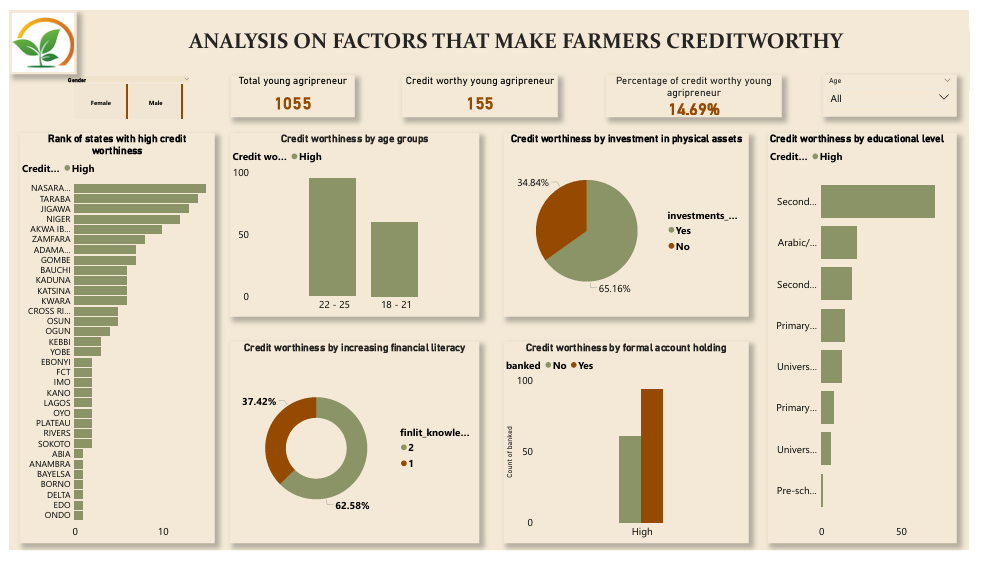

Layout of this report page (visuals, bound fields, positions):
{"tool":"powerbi","page":{"name":"Page 1","canvas":[1920,1080],"ordinal":0},"visuals":[{"type":"clusteredColumnChart","title":"Credit worthiness by age groups","fields":{"Y":["CountNonNull(Cleaned_Agri cvs.Credit worthiness score)"],"Series":["Cleaned_Agri cvs.Credit worthiness score"],"Category":["Cleaned_Agri cvs.Age Group"]},"box":[440.3,244.1,498.9,367.8],"z":0},{"type":"clusteredColumnChart","title":"Credit worthiness by formal account holding","fields":{"Category":["Cleaned_Agri cvs.Credit worthiness score"],"Y":["CountNonNull(Cleaned_Agri cvs.banked)"],"Series":["Cleaned_Agri cvs.banked"]},"box":[987.2,660.6,490.9,404.3],"z":1000},{"type":"donutChart","title":"Credit worthiness by increasing financial literacy","fields":{"Category":["Cleaned_Agri cvs.finlit_knowledge"],"Y":["CountNonNull(Cleaned_Agri cvs.Credit worthiness score)"],"Series":["Cleaned_Agri cvs.Credit worthiness score"]},"box":[440.3,660.6,498.9,404.3],"z":2000},{"type":"clusteredBarChart","title":"Credit worthiness by educational level","fields":{"Y":["CountNonNull(Cleaned_Agri cvs.Credit worthiness score)"],"Category":["Cleaned_Agri cvs.Edu_level"],"Series":["Cleaned_Agri cvs.Credit worthiness score"]},"box":[1515.5,244.1,378.9,820.8],"z":3000},{"type":"pieChart","title":"Credit worthiness by investment in physical assets","fields":{"Y":["CountNonNull(Cleaned_Agri cvs.Credit worthiness score)"],"Category":["Cleaned_Agri cvs.investments_physical_assets","Cleaned_Agri cvs.Credit worthiness score"]},"box":[987.2,244.1,490.9,367.8],"z":4000},{"type":"clusteredBarChart","title":"Rank of states with high credit worthiness","fields":{"Category":["Cleaned_Agri cvs.state"],"Y":["CountNonNull(Cleaned_Agri cvs.Credit worthiness score)"],"Series":["Cleaned_Agri cvs.Credit worthiness score"]},"box":[19.4,244.1,390.6,820.8],"z":5000},{"type":"slicer","fields":{"Values":["Cleaned_Agri cvs.Age"]},"box":[1624.8,127.4,269.5,84.7],"z":6000},{"type":"card","title":"Total young agripreneur","fields":{"Values":["Cleaned_Agri cvs.Total Respondence"]},"box":[441.2,128,249.3,84.7],"z":7000},{"type":"card","title":"Credit worthy young agripreneur","fields":{"Values":["Cleaned_Agri cvs.High credit worthy count"]},"box":[783.7,128,312.3,84.7],"z":8000},{"type":"card","title":"Percentage of credit worthy young agripreneur","fields":{"Values":["Cleaned_Agri cvs.Credit worthy percentage"]},"box":[1191.7,128,352.6,84.7],"z":9000},{"type":"textbox","box":[352.8,27.7,1353.1,90.7],"z":10000},{"type":"slicer","fields":{"Values":["Cleaned_Agri cvs.Gender"]},"box":[103.7,127.4,267,97.2],"z":11000},{"type":"image","box":[0,0,133.9,127.4],"z":12000}]}

Visuals, with their boxes in screenshot pixels (x1, y1, x2, y2), scaled from the page's 1920x1080 canvas onto the 982x562 screenshot:
"Credit worthiness by age groups" clusteredColumnChart: l=225, t=127, r=480, b=318
"Credit worthiness by formal account holding" clusteredColumnChart: l=505, t=344, r=756, b=554
"Credit worthiness by increasing financial literacy" donutChart: l=225, t=344, r=480, b=554
"Credit worthiness by educational level" clusteredBarChart: l=775, t=127, r=969, b=554
"Credit worthiness by investment in physical assets" pieChart: l=505, t=127, r=756, b=318
"Rank of states with high credit worthiness" clusteredBarChart: l=10, t=127, r=210, b=554
slicer - Cleaned_Agri cvs.Age: l=831, t=66, r=969, b=110
"Total young agripreneur" card: l=226, t=67, r=353, b=111
"Credit worthy young agripreneur" card: l=401, t=67, r=561, b=111
"Percentage of credit worthy young agripreneur" card: l=610, t=67, r=790, b=111
textbox: l=180, t=14, r=872, b=62
slicer - Cleaned_Agri cvs.Gender: l=53, t=66, r=190, b=117
image: l=0, t=0, r=68, b=66
